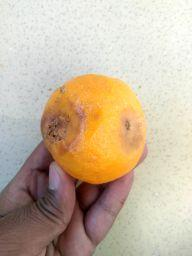Unripe: (39, 74, 145, 185)
